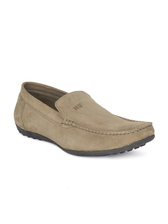shoes: (12, 80, 162, 160)
